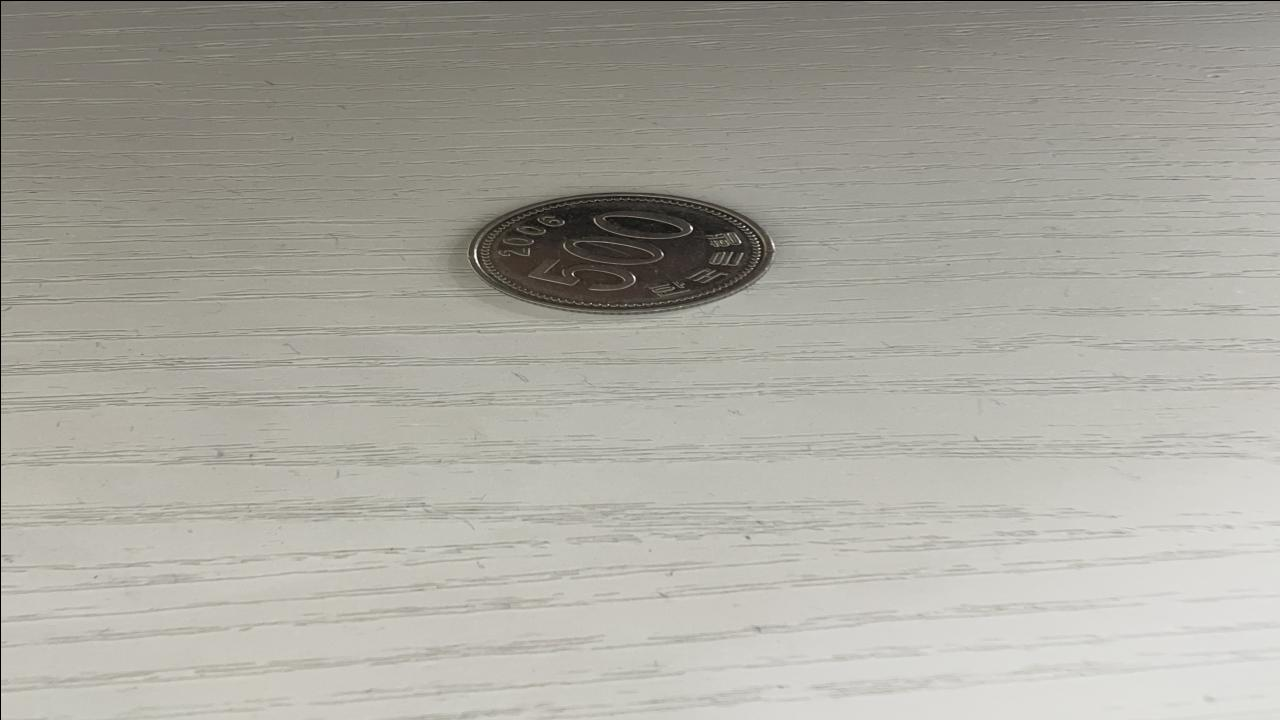coin: (462, 187, 780, 318)
